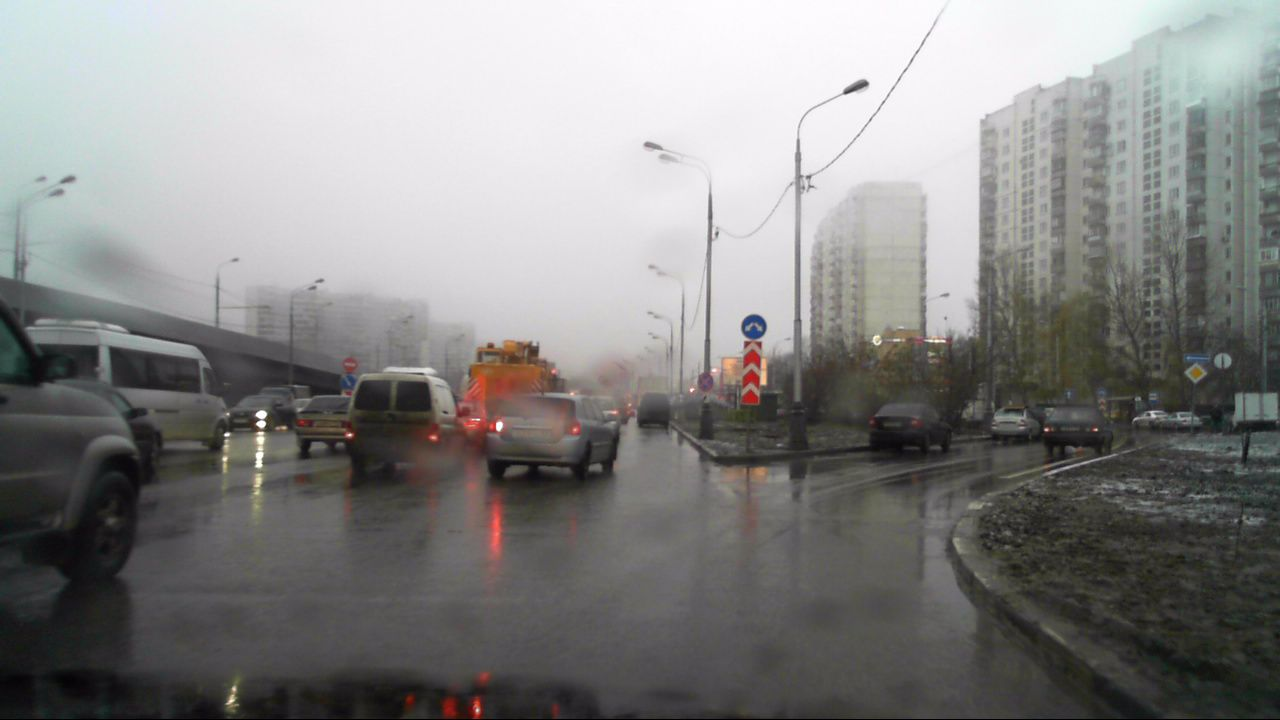No Parking: (697, 373, 713, 391)
